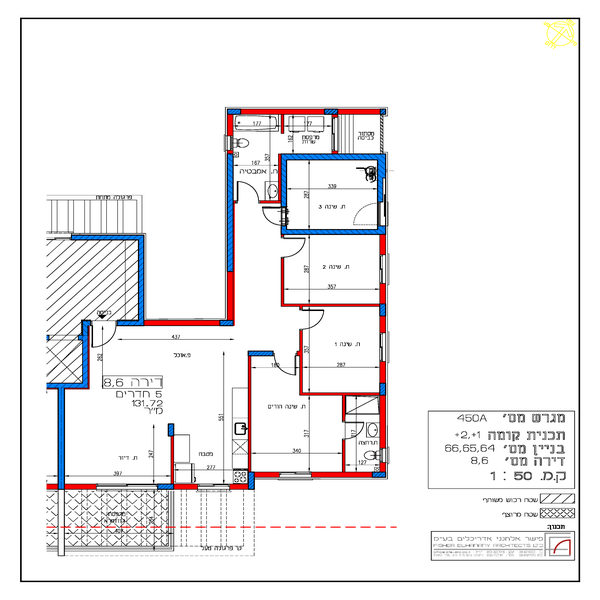door: (344, 194, 387, 224), (83, 320, 117, 352), (270, 348, 301, 377), (338, 419, 371, 443), (283, 235, 313, 257), (299, 304, 326, 328), (237, 180, 263, 204), (260, 200, 283, 226)
room: (81, 319, 254, 487), (227, 104, 290, 321), (247, 393, 389, 482), (298, 297, 387, 400), (230, 105, 392, 161), (278, 153, 387, 236), (279, 231, 388, 309)
wall: (225, 152, 235, 320), (241, 107, 382, 116), (57, 382, 67, 489), (137, 239, 148, 326), (314, 469, 387, 481), (279, 152, 385, 160), (282, 226, 387, 234), (247, 349, 254, 469), (279, 300, 381, 308), (378, 364, 388, 443), (80, 326, 93, 385), (72, 234, 147, 243), (298, 391, 381, 397), (118, 321, 237, 325), (279, 155, 288, 205), (299, 330, 305, 398), (279, 258, 286, 308), (380, 283, 387, 331), (339, 394, 350, 421), (227, 107, 236, 137), (339, 442, 348, 471)
window: (93, 482, 158, 493), (277, 469, 310, 485), (377, 330, 393, 360), (197, 480, 228, 494), (377, 252, 390, 280)
